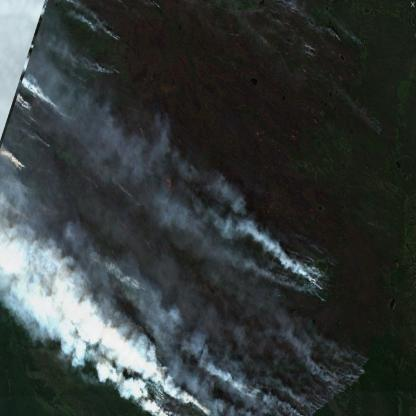fire: (0, 0, 388, 416)
